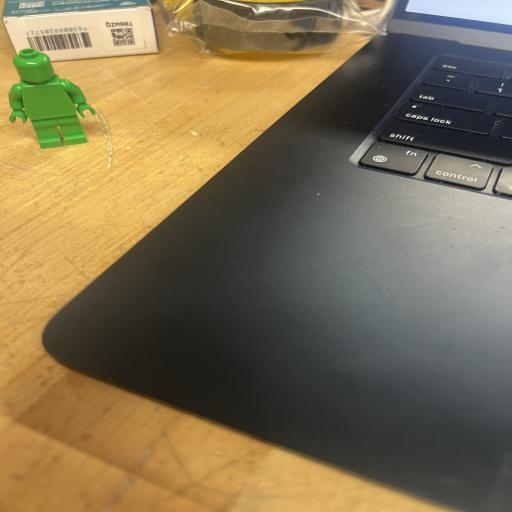green-lego-minifigure-detector: (9, 48, 95, 148)
